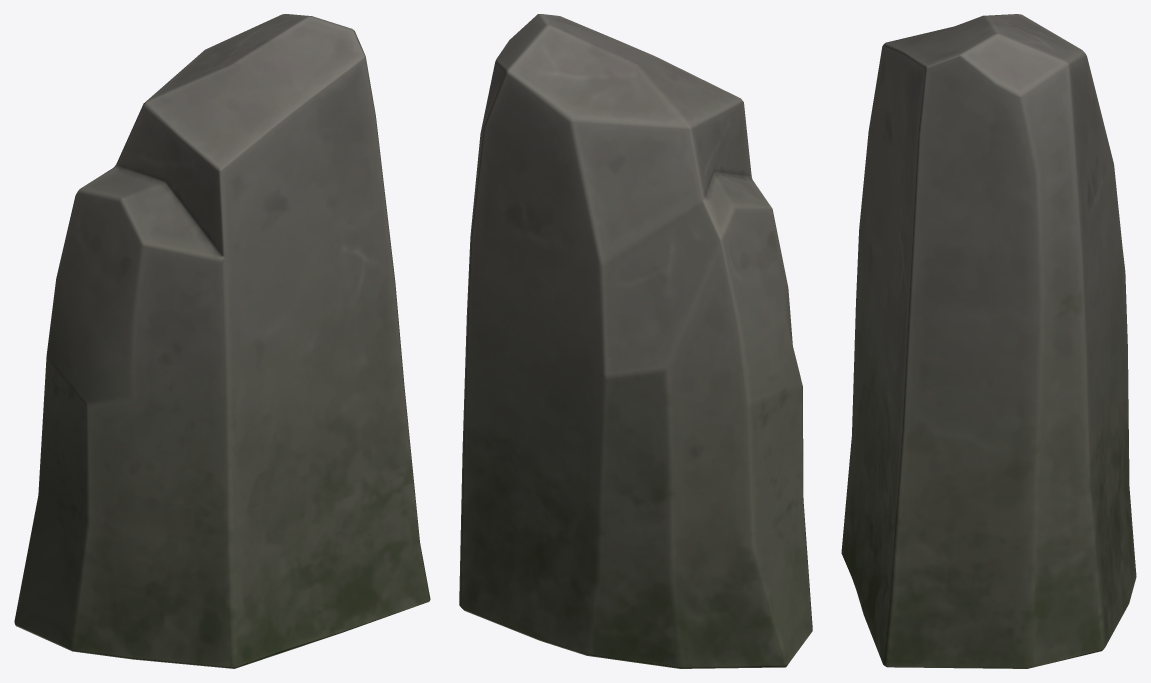
Rendered from AP2_Rock8.glb.
3 views of the same model, side by side, from view 1: azimuth 30°, elevation 25°; view 2: azimuth 150°, elevation 25°; view 3: azimuth 270°, elevation 25° (orthographic). The views are drawn at different scales.
Parts seen in each view (by area): view 1: Rock8_LOD0; view 2: Rock8_LOD0; view 3: Rock8_LOD0.
Boxes of the visible parts, bbox=[...] form: Rock8_LOD0: bbox=[14, 14, 430, 668]; Rock8_LOD0: bbox=[459, 14, 812, 668]; Rock8_LOD0: bbox=[841, 14, 1136, 668].
Size of the model in its own units: 3.27 by 5.16 by 2.3.
Materials: 1 (1 with a texture image).
